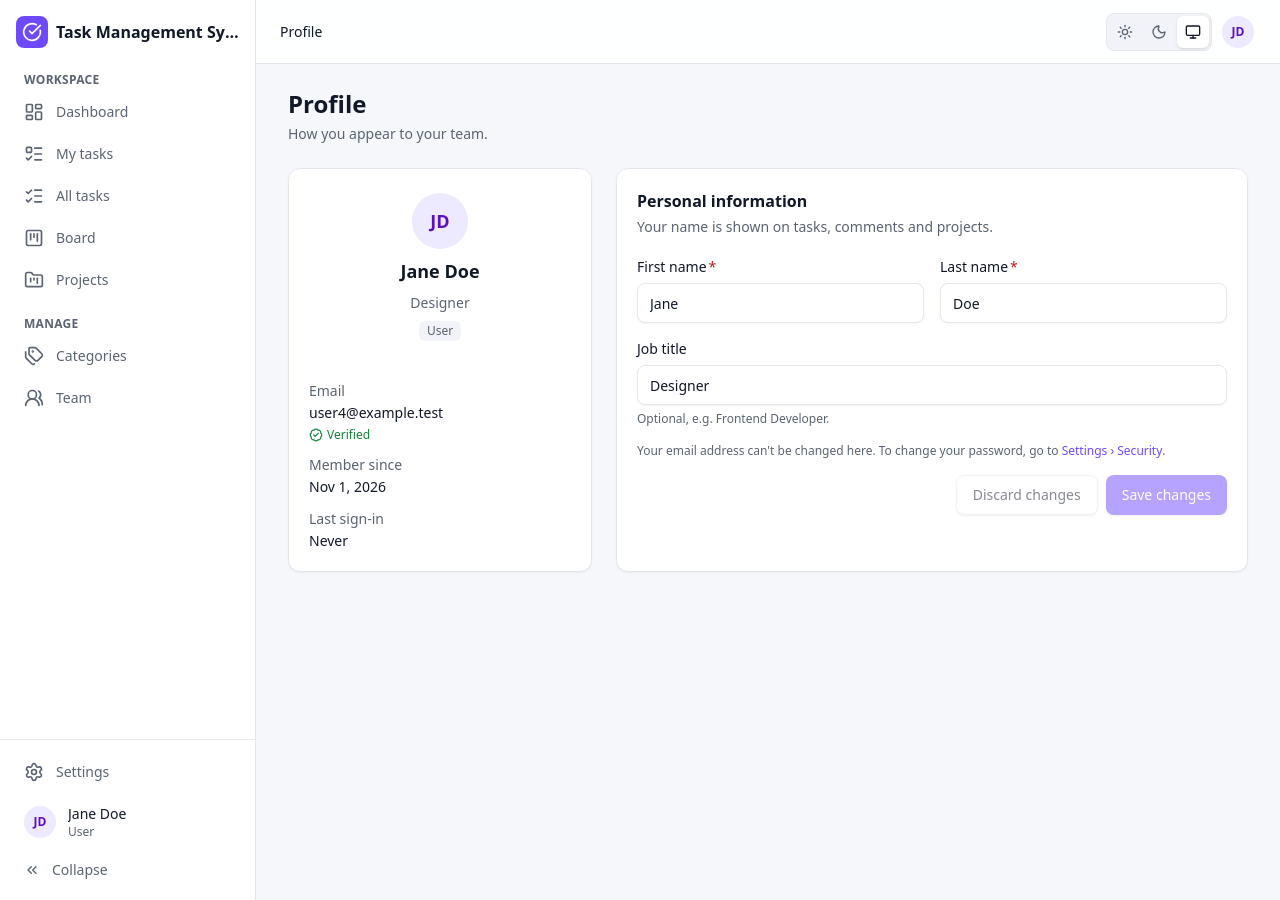
Test: Profile › saves my name and job title (trimmed, empty → null) and updates the app header
expect the button "Save changes" is disabled: met, box top-left (1106, 475), bottom-right (1227, 515)
Replace the text in the field labelled "First name" with "  Janet " at (780, 303), box top-left (637, 283), bottom-right (924, 323)
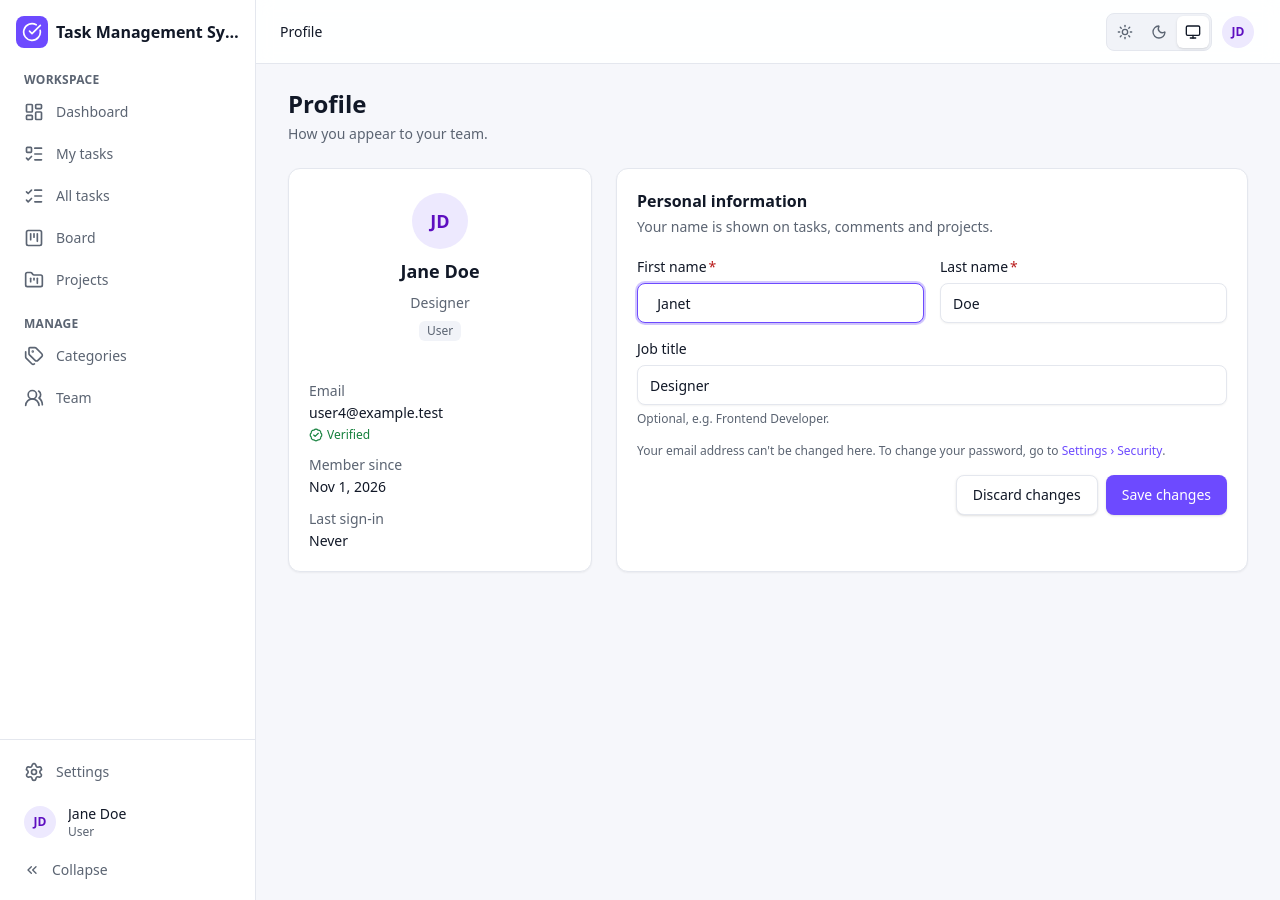
Clear the field labelled "Job title" at (932, 385), box top-left (637, 365), bottom-right (1227, 405)
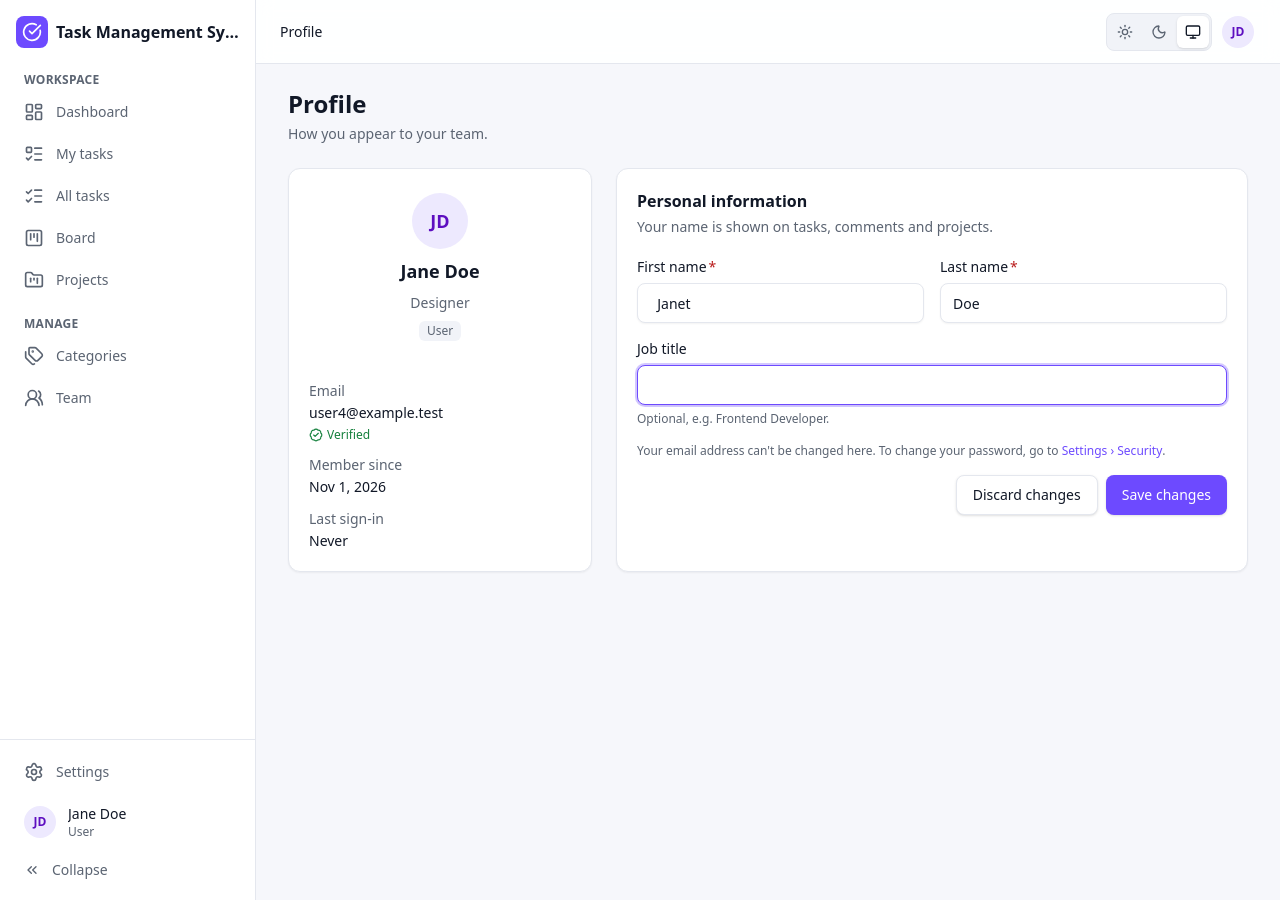
Click the button "Save changes" at (1166, 495), box top-left (1106, 475), bottom-right (1227, 515)
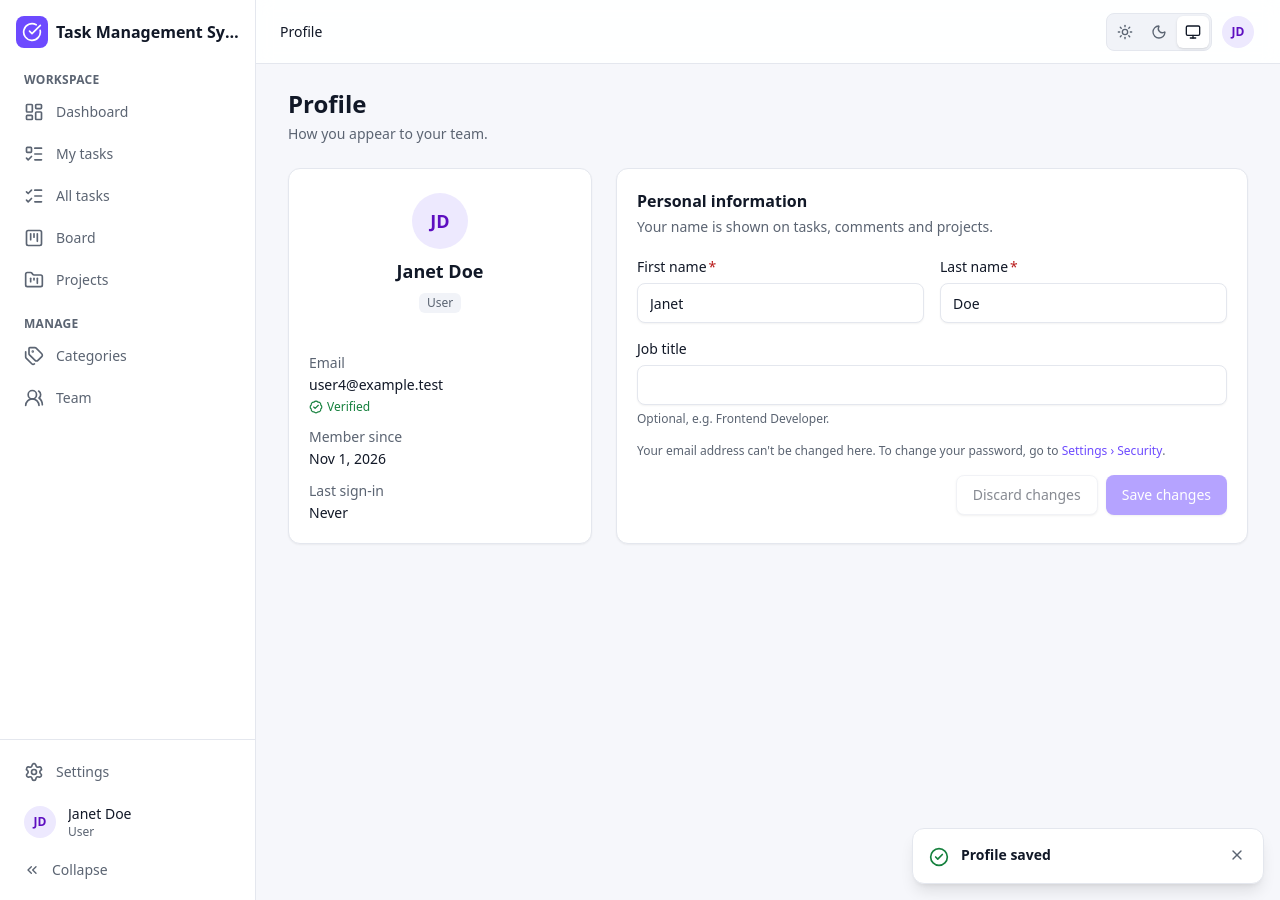
expect the button named "Account menu for Janet Doe" is shown: met, box top-left (1220, 14), bottom-right (1256, 50)
expect the text "Profile saved" is shown: met, box top-left (961, 845), bottom-right (1051, 864)
